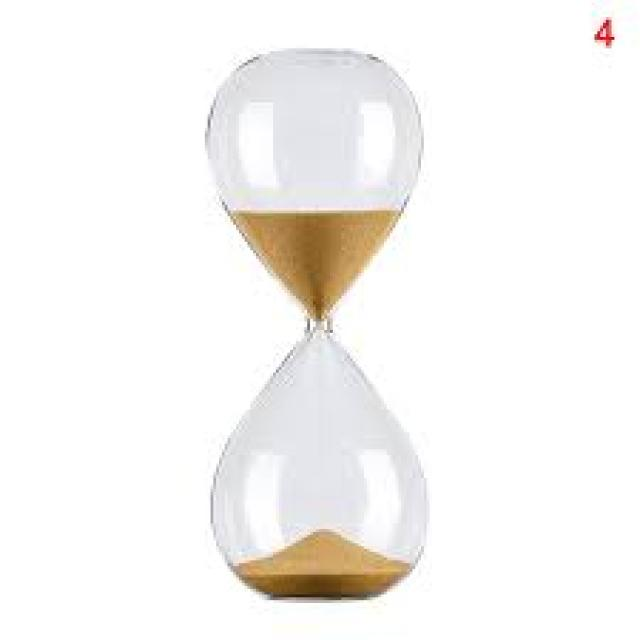clock: (190, 31, 467, 606)
